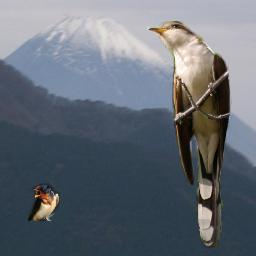Cuckoo: (147, 21, 232, 248)
Swallow: (28, 183, 60, 221)
